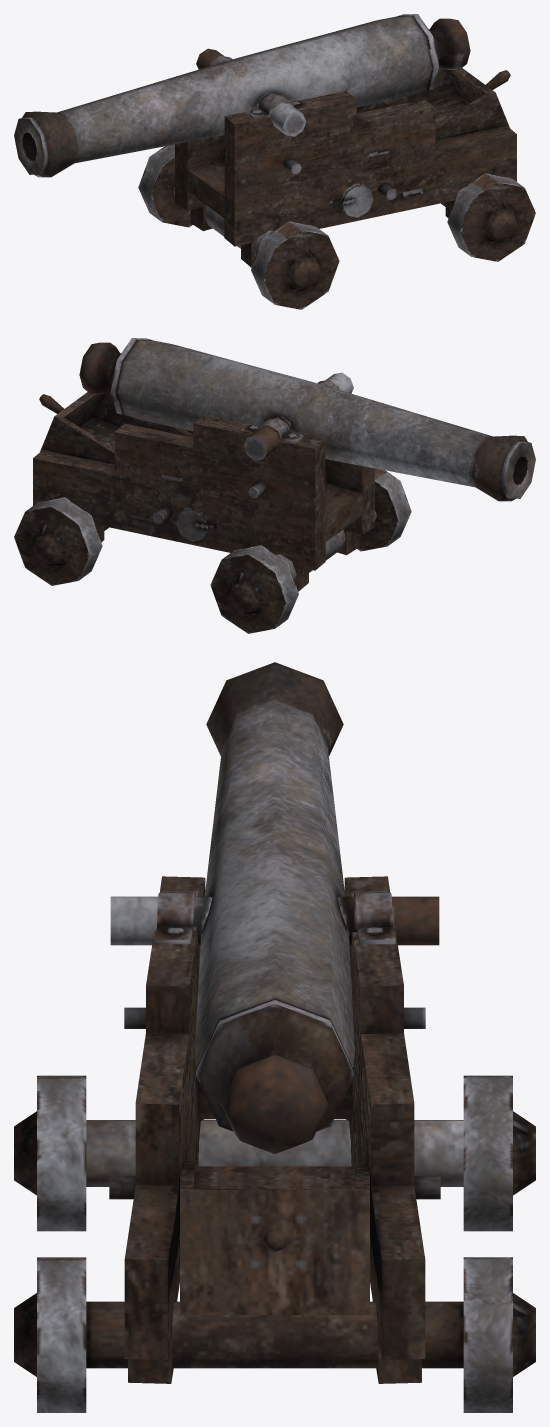
The model's file is armata_lod_lvl_01.fbx.
The picture shows the model from 3 angles, top to bottom: view 1: azimuth 30°, elevation 25°; view 2: azimuth 150°, elevation 25°; view 3: azimuth 270°, elevation 25°; orthographic projection. The views are drawn at different scales.
Visible parts, largest first — view 1: armata_lod_lvl1; view 2: armata_lod_lvl1; view 3: armata_lod_lvl1.
Boxes of the visible parts, <box> form: armata_lod_lvl1: <box>14,14,535,309</box>; armata_lod_lvl1: <box>14,338,535,633</box>; armata_lod_lvl1: <box>14,662,535,1412</box>.
Bounding box in the file's own units: 201 × 82.49 × 99.69.
Materials: 1 (1 with a texture image).
